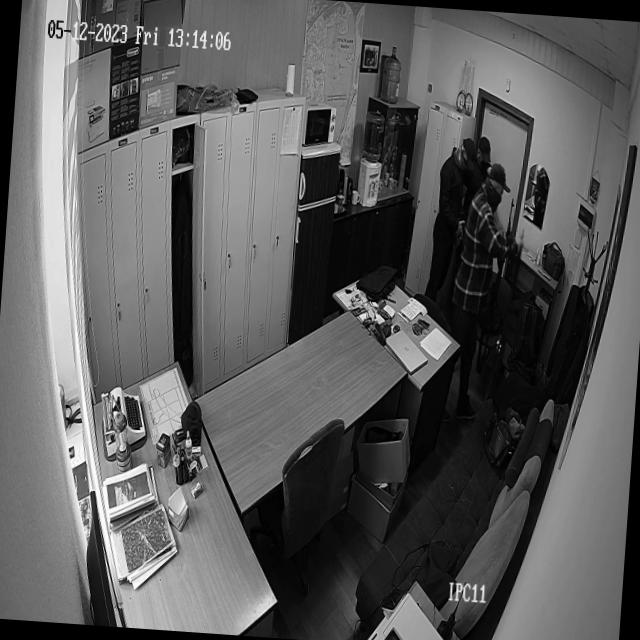gun: (488, 196, 516, 344)
person: (428, 136, 474, 302)
person with a gun: (454, 165, 514, 404)
